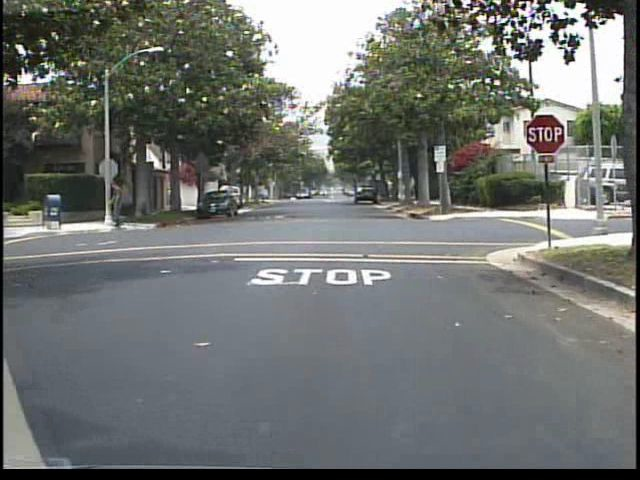person: (105, 174, 132, 233)
